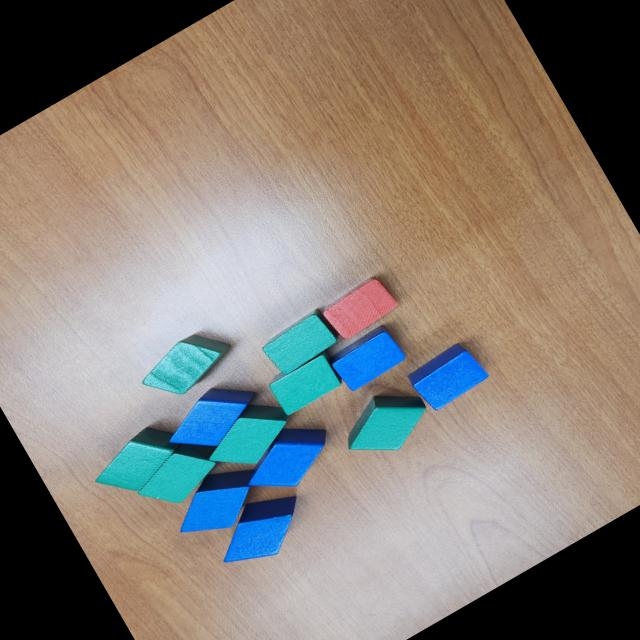blue: (153, 369, 270, 468), (203, 479, 318, 579), (162, 452, 274, 550), (232, 409, 344, 506), (404, 337, 492, 416), (324, 321, 410, 396)
green: (83, 413, 194, 508), (332, 376, 438, 472), (195, 389, 302, 484), (132, 319, 242, 410), (126, 428, 232, 520), (258, 306, 342, 378), (263, 346, 346, 418)
red: (316, 270, 403, 346)
